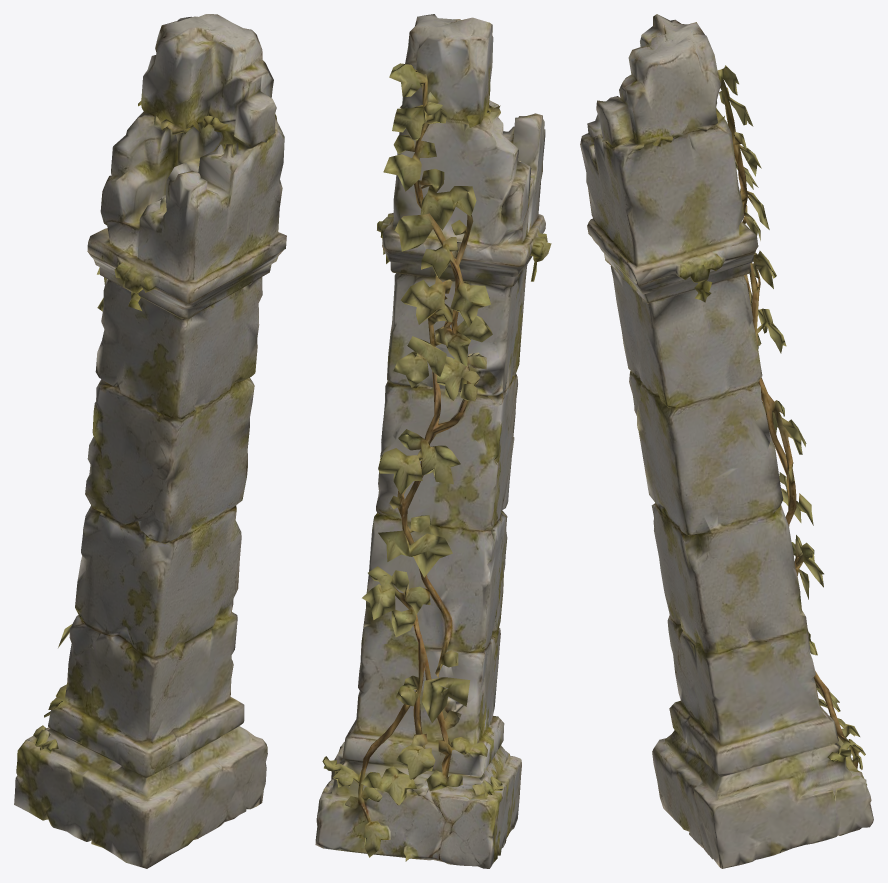
The model's file is ruin_pillar_c.glb.
3 views of the same model, side by side, from view 1: azimuth 30°, elevation 25°; view 2: azimuth 150°, elevation 25°; view 3: azimuth 270°, elevation 25° (orthographic). The views are drawn at different scales.
Visible parts, largest first — view 1: ruin_pillar_c__stone; view 2: ruin_pillar_c__stone; view 3: ruin_pillar_c__stone.
Part boxes in pixels (bbox=[...]): ruin_pillar_c__stone: bbox=[14, 14, 286, 868]; ruin_pillar_c__stone: bbox=[315, 14, 551, 868]; ruin_pillar_c__stone: bbox=[580, 14, 873, 868].
Size of the model in its own units: 0.7217 by 2.83 by 0.9295.
Materials: 1 (1 with a texture image).
